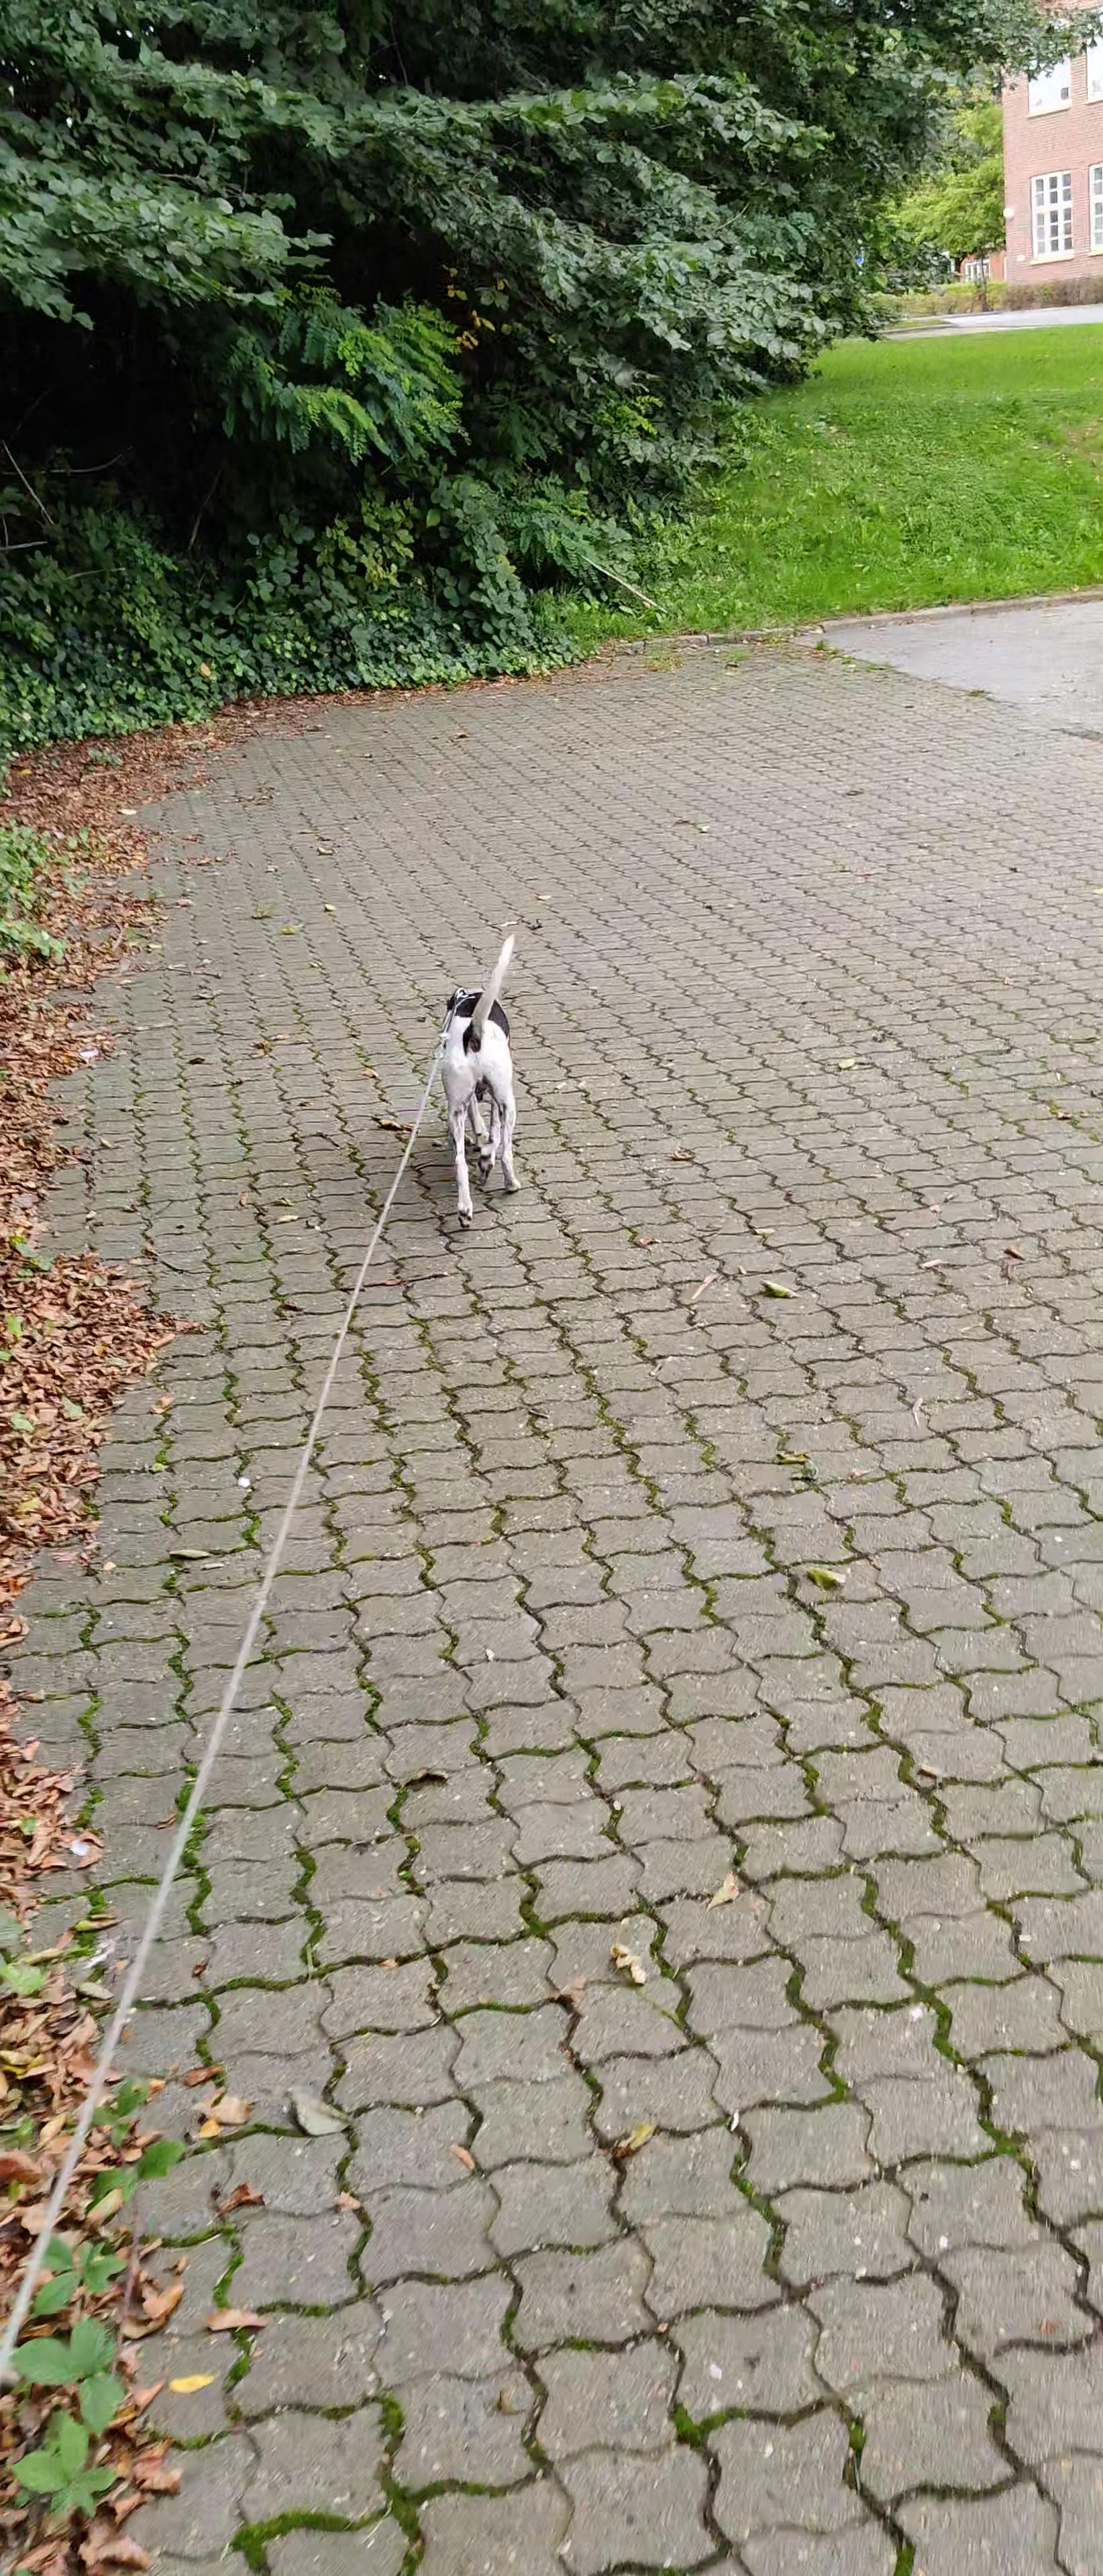Dog: (414, 918, 529, 1247)
